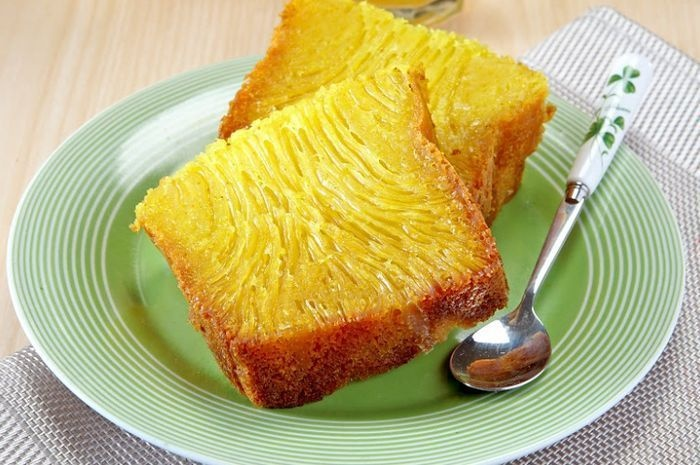bika_ambon: (128, 56, 493, 370)
